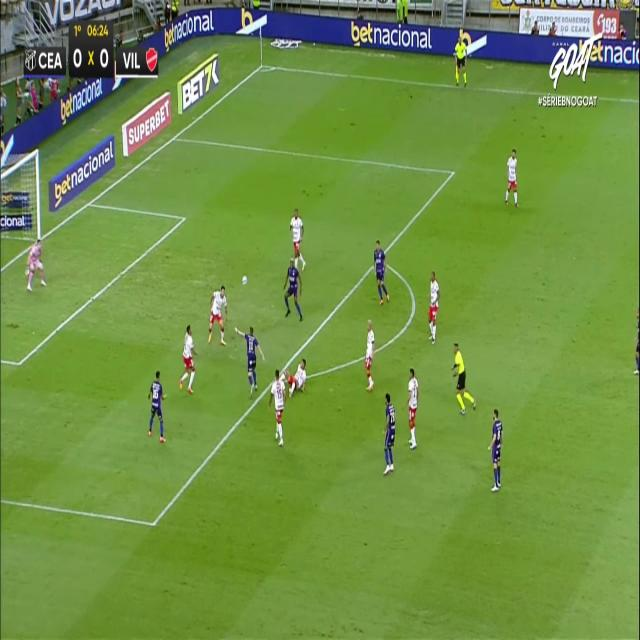ball: (240, 269, 251, 288)
goalkeeper: (25, 238, 47, 292)
player: (234, 324, 265, 397), (451, 342, 476, 414), (279, 357, 312, 401), (147, 370, 167, 442), (268, 369, 286, 446), (283, 257, 303, 321), (179, 324, 197, 394), (488, 408, 503, 492), (208, 284, 228, 345), (383, 392, 396, 475), (373, 239, 389, 305), (289, 207, 305, 271), (407, 367, 419, 449), (428, 270, 440, 344), (505, 149, 519, 207), (364, 318, 374, 390)
referee: (453, 36, 467, 86)
